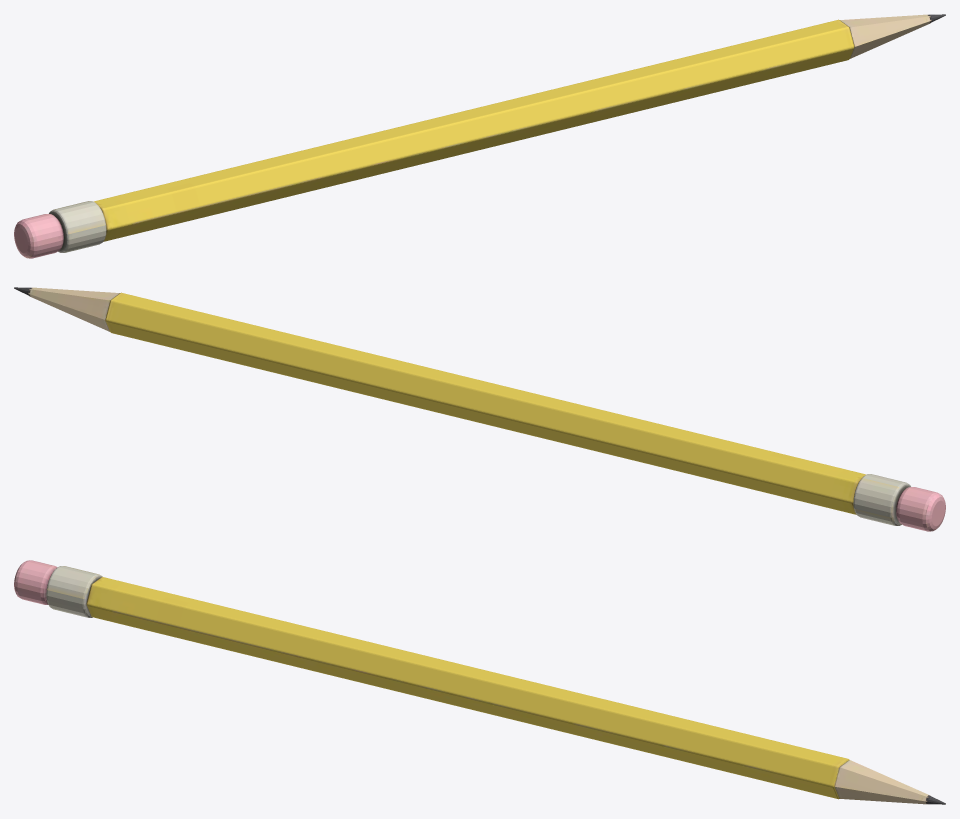
The model's file is pencil.glb.
The picture shows the model from 3 angles, top to bottom: view 1: azimuth 30°, elevation 25°; view 2: azimuth 150°, elevation 25°; view 3: azimuth 330°, elevation 25°; orthographic projection.
Visible parts, largest first — view 1: body; view 2: body; view 3: body.
Boxes of the visible parts, bbox=[...] form: body: bbox=[14, 14, 945, 258]; body: bbox=[14, 287, 945, 531]; body: bbox=[14, 560, 945, 804].
Size of the model in its own units: 0.1853 by 0.0078 by 0.0078.
1 material, 1 textured.
